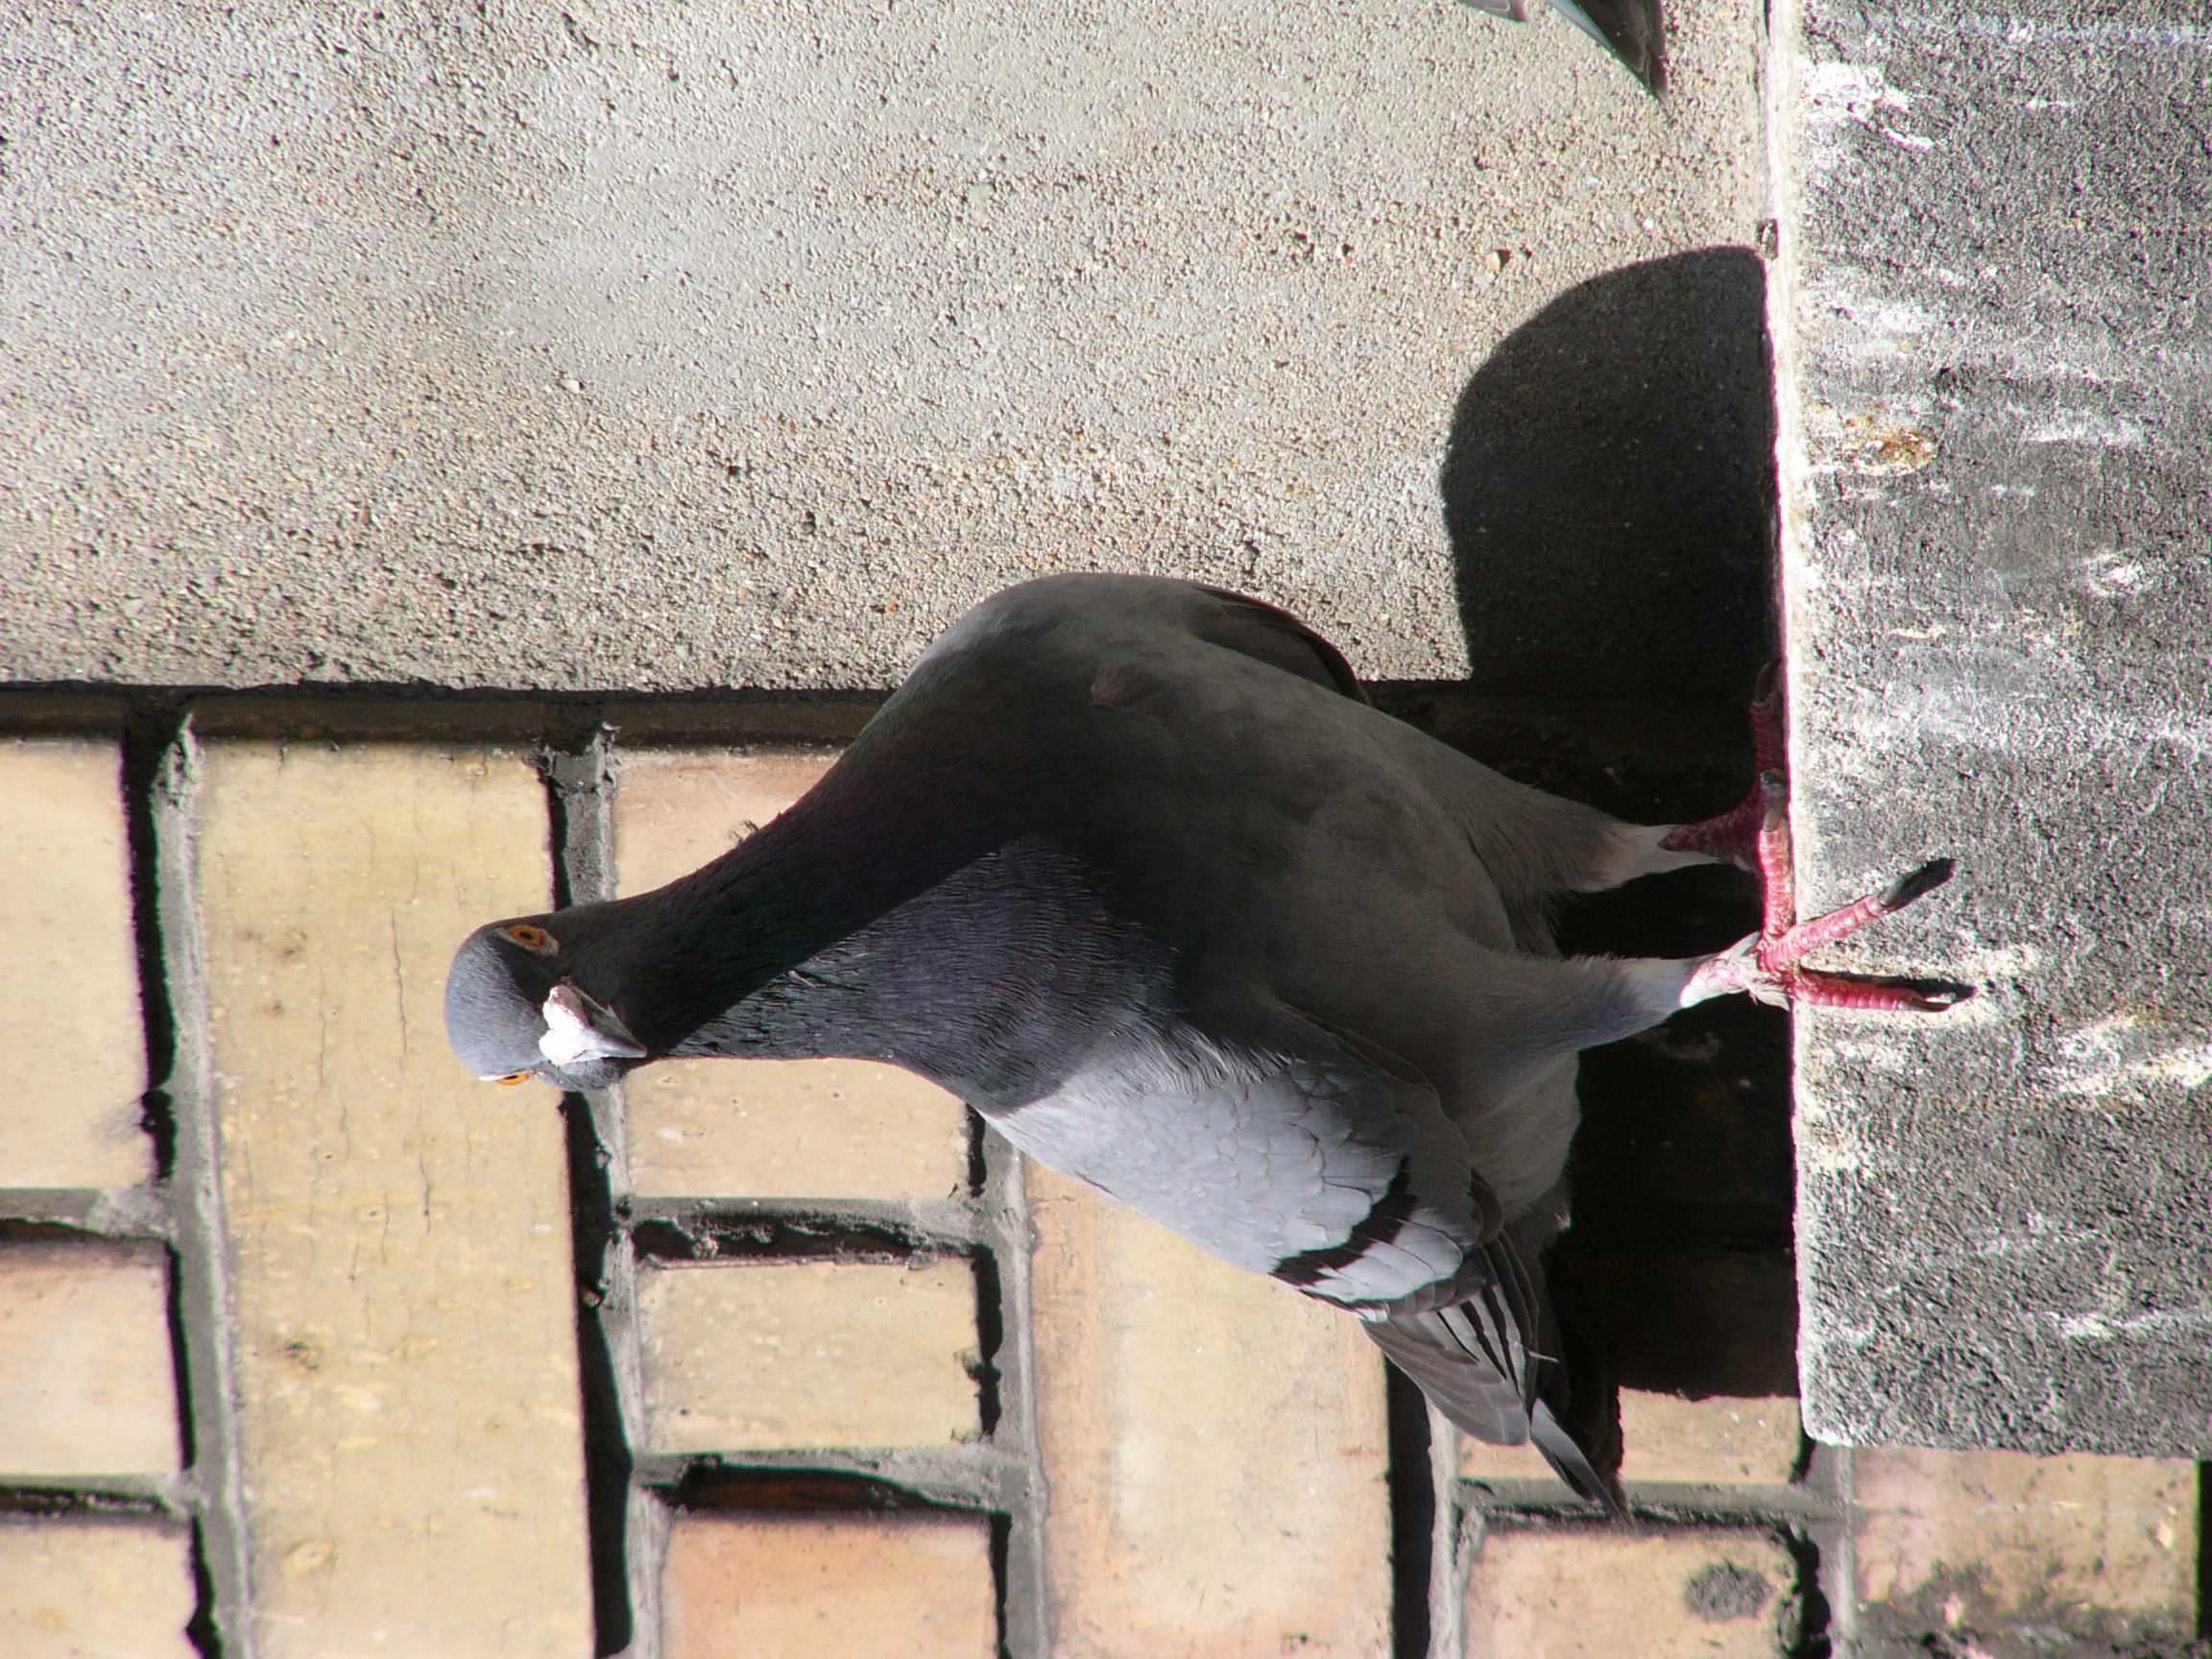pigeon: (416, 493, 1984, 1549)
